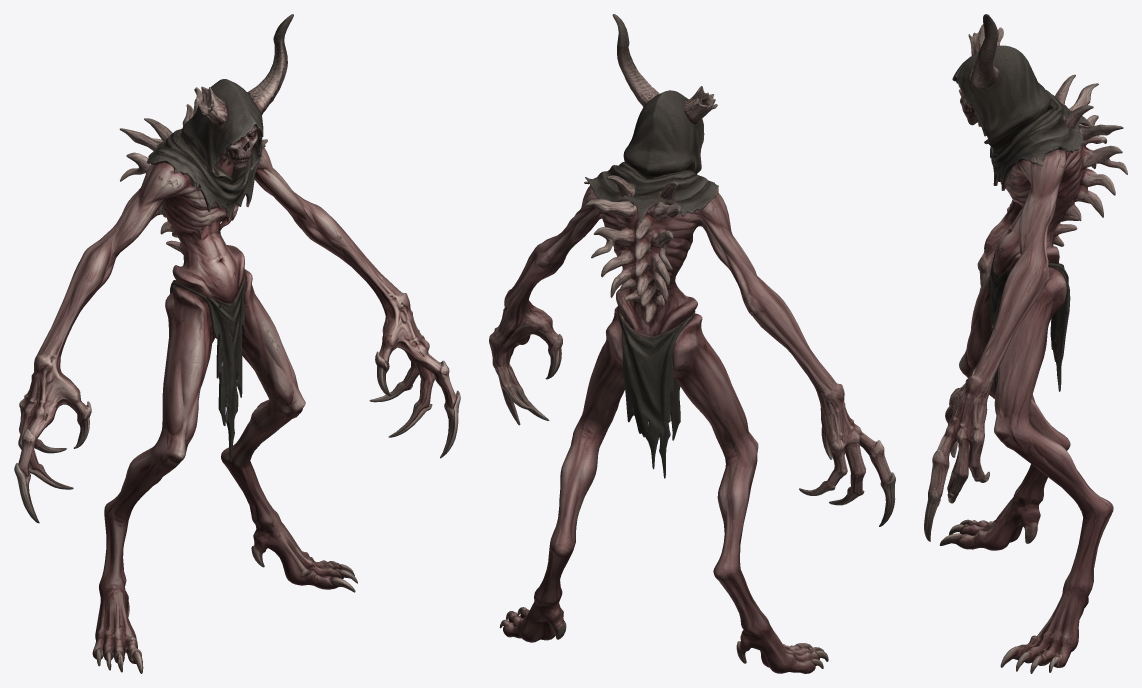
The model's file is stalk_meshy_raw.glb.
3 views of the same model, side by side, from view 1: azimuth 30°, elevation 25°; view 2: azimuth 150°, elevation 25°; view 3: azimuth 270°, elevation 25° (orthographic). The views are drawn at different scales.
Parts seen in each view (by area): view 1: Mesh_0; view 2: Mesh_0; view 3: Mesh_0.
Part boxes in pixels (left/top/right/bottom): Mesh_0: left=14, top=14, right=460, bottom=673; Mesh_0: left=489, top=14, right=895, bottom=673; Mesh_0: left=924, top=14, right=1127, bottom=673.
Size of the model in its own units: 1.39 by 1.9 by 0.5681.
1 material, 1 textured.
